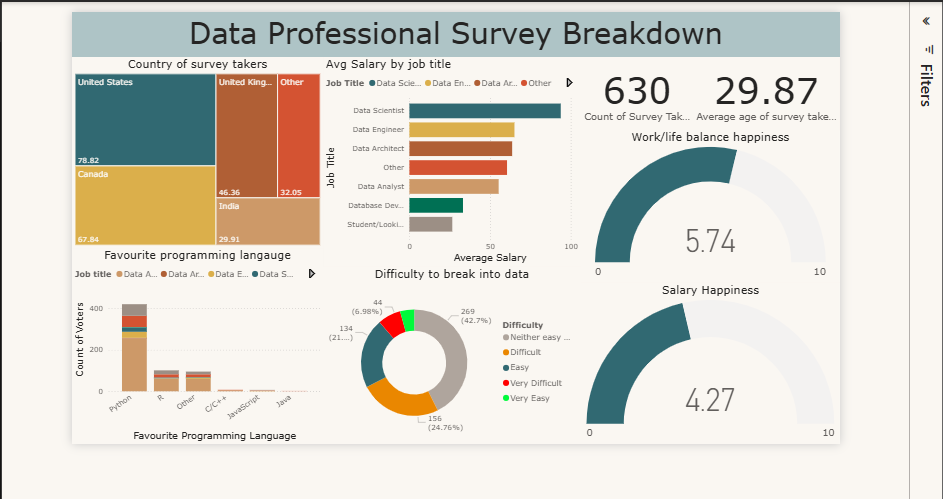

Layout of this report page (visuals, bound fields, positions):
{"tool":"powerbi","page":{"name":"Page 1","canvas":[1280,720],"ordinal":0},"visuals":[{"type":"textbox","box":[0,0,1279.8,74.9],"z":0},{"type":"card","fields":{"Values":["CountNonNull(Data Professional Survey.Unique ID)"]},"box":[848.6,74.3,187.1,122.9],"z":1000},{"type":"card","fields":{"Values":["Avg(Data Professional Survey.Q10 - Current Age)"]},"box":[1035.7,74.3,244.3,122.9],"z":2000},{"type":"barChart","title":"Avg Salary by job title","fields":{"Category":["Data Professional Survey.Q1 - Which Title Best Fits your Current Role?.1"],"Y":["Avg(Data Professional Survey.Average Salary)"],"Series":["Data Professional Survey.Q1 - Which Title Best Fits your Current Role?.1"]},"box":[418.6,75.7,430,348.6],"z":3000},{"type":"columnChart","title":"Favourite programming langauge","fields":{"Category":["Data Professional Survey.Q5 - Favorite Programming Language.1"],"Y":["CountNonNull(Data Professional Survey.Unique ID)"],"Series":["Data Professional Survey.Q1 - Which Title Best Fits your Current Role?.1"]},"box":[0,392.9,418.6,327.1],"z":4000},{"type":"treemap","title":"Country of survey takers","fields":{"Group":["Data Professional Survey.Q11 - Which Country do you live in?.1"],"Values":["Avg(Data Professional Survey.Average Salary)"]},"box":[0,74.3,418.6,318.6],"z":4001},{"type":"gauge","title":"Work/life balance happiness","fields":{"MaxValue":["Max(Data Professional Survey.Q6 - How Happy are you in your Current Position with the following? (Work/Life Balance))"],"MinValue":["Min(Data Professional Survey.Q6 - How Happy are you in your Current Position with the following? (Work/Life Balance))"],"Y":["Avg(Data Professional Survey.Q6 - How Happy are you in your Current Position with the following? (Work/Life Balance))"]},"box":[848.6,197.1,431.4,254.3],"z":4002},{"type":"gauge","title":"Salary Happiness","fields":{"Y":["Avg(Data Professional Survey.Q6 - How Happy are you in your Current Position with the following? (Salary))"],"MinValue":["Min(Data Professional Survey.Q6 - How Happy are you in your Current Position with the following? (Salary))"],"MaxValue":["Max(Data Professional Survey.Q6 - How Happy are you in your Current Position with the following? (Salary))"]},"box":[848.6,451.4,431.4,268.6],"z":4003},{"type":"donutChart","title":"Difficulty to break into data","fields":{"Category":["Data Professional Survey.Q7 - How difficult was it for you to break into Data?"],"Y":["CountNonNull(Data Professional Survey.Q7 - How difficult was it for you to break into Data?)"]},"box":[418.6,424.3,430,295.7],"z":4004}]}

Visuals, with their boxes on the page's 1280x720 design canvas (x1, y1, x2, y2). These are canvas units, not pixel positions in the 943x499 screenshot, which may show the page scaled, cropped or inside an application window:
textbox: <region>0, 0, 1280, 75</region>
card - CountNonNull(Data Professional Survey.Unique ID): <region>849, 74, 1036, 197</region>
card - Avg(Data Professional Survey.Q10 - Current Age): <region>1036, 74, 1280, 197</region>
"Avg Salary by job title" barChart: <region>419, 76, 849, 424</region>
"Favourite programming langauge" columnChart: <region>0, 393, 419, 720</region>
"Country of survey takers" treemap: <region>0, 74, 419, 393</region>
"Work/life balance happiness" gauge: <region>849, 197, 1280, 451</region>
"Salary Happiness" gauge: <region>849, 451, 1280, 720</region>
"Difficulty to break into data" donutChart: <region>419, 424, 849, 720</region>
